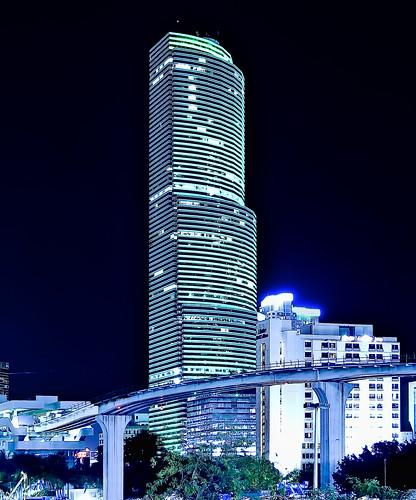building: (146, 28, 268, 493)
